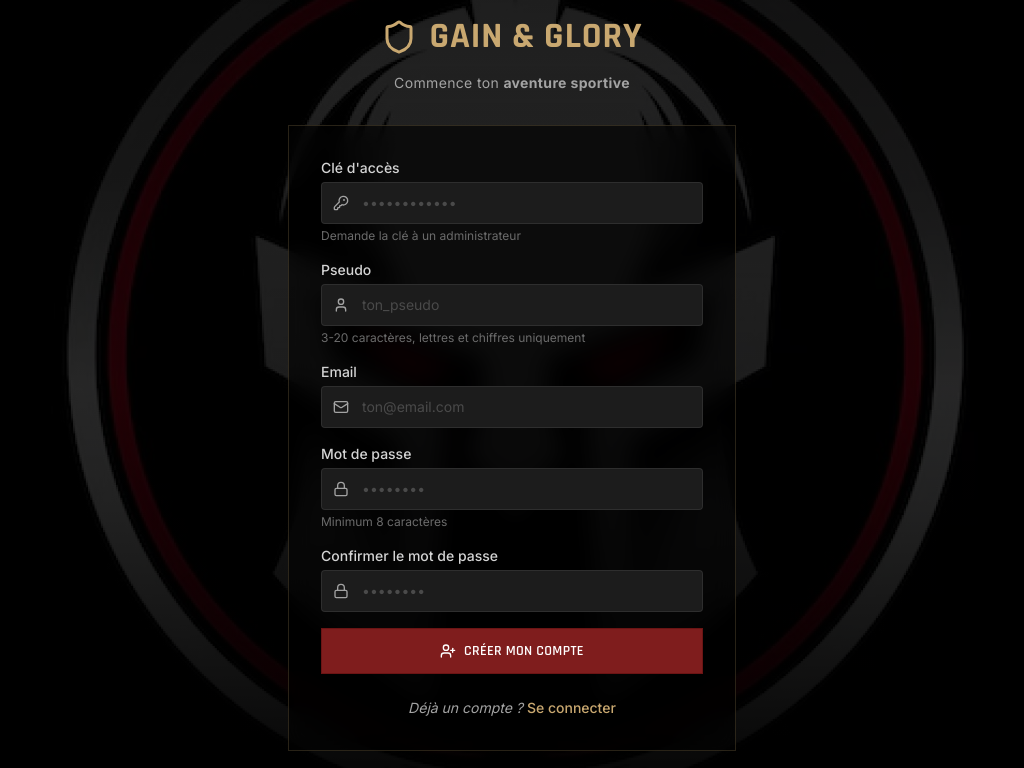
RegisterPage › affiche une erreur si la clé d'accès est incorrecte
Type "MauvaiseCle" into the password field labelled "Clé d'accès". click: [512, 203]
box: [321, 182, 703, 224]
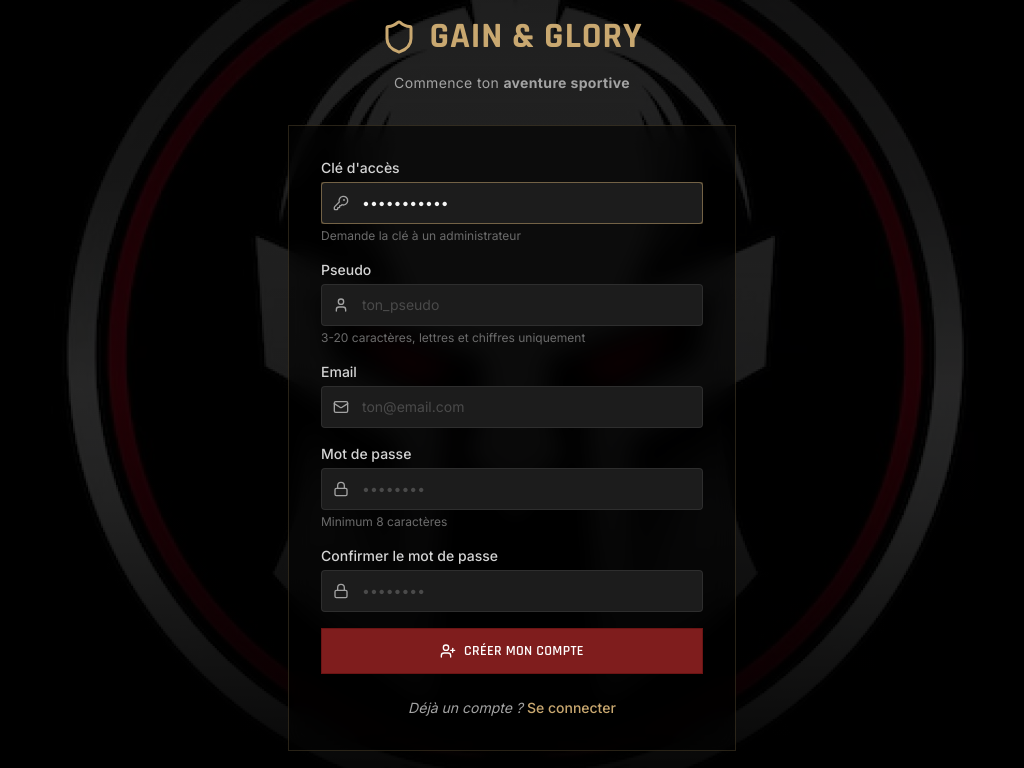
Type "warrior42" into the field labelled "Pseudo". click: [512, 305]
box: [321, 284, 703, 326]
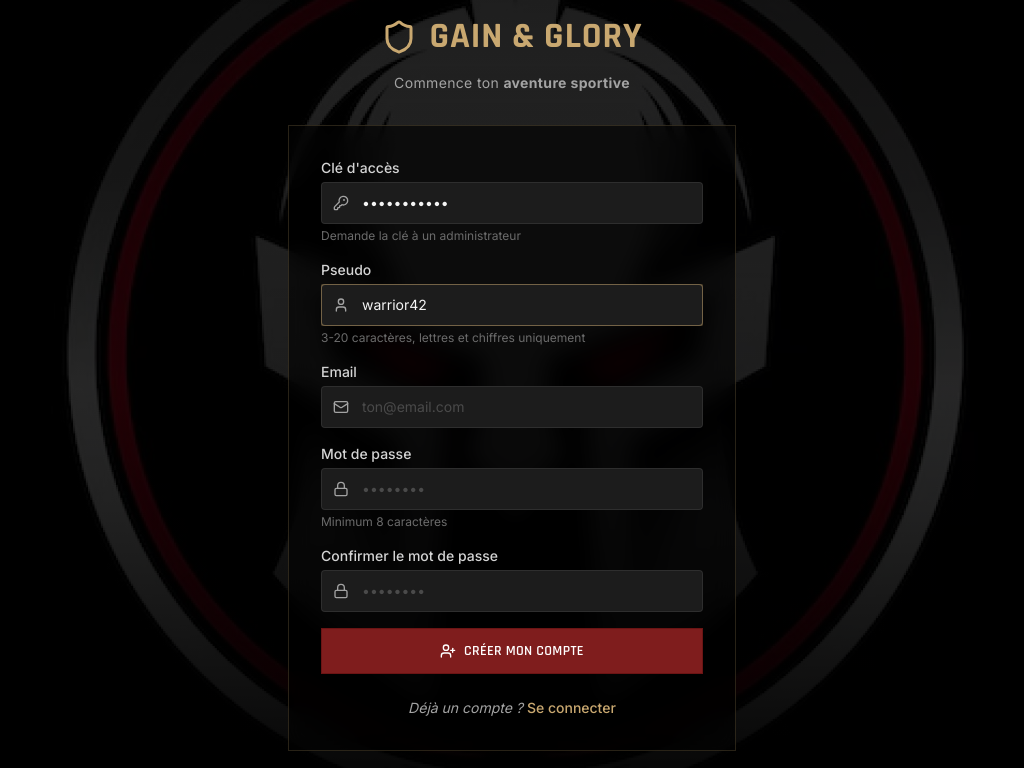
Type "warrior@test.com" into the field labelled "Email". click: [512, 407]
box: [321, 386, 703, 428]
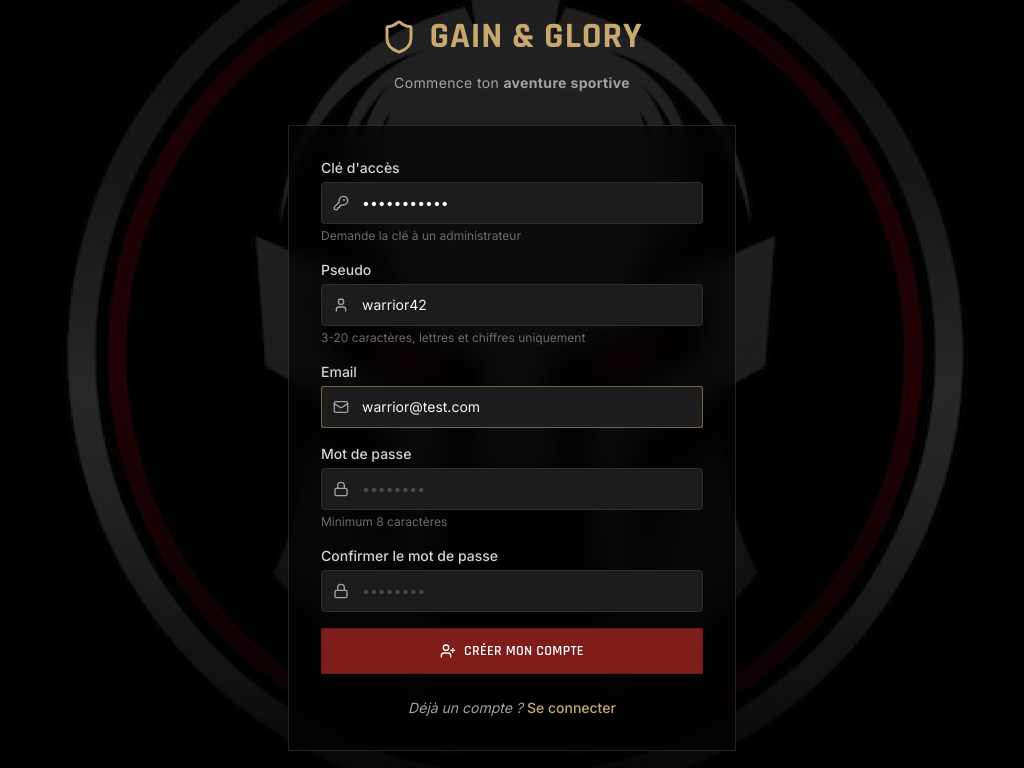
Type "password123" into the password field labelled "Mot de passe". click: [512, 489]
box: [321, 468, 703, 510]
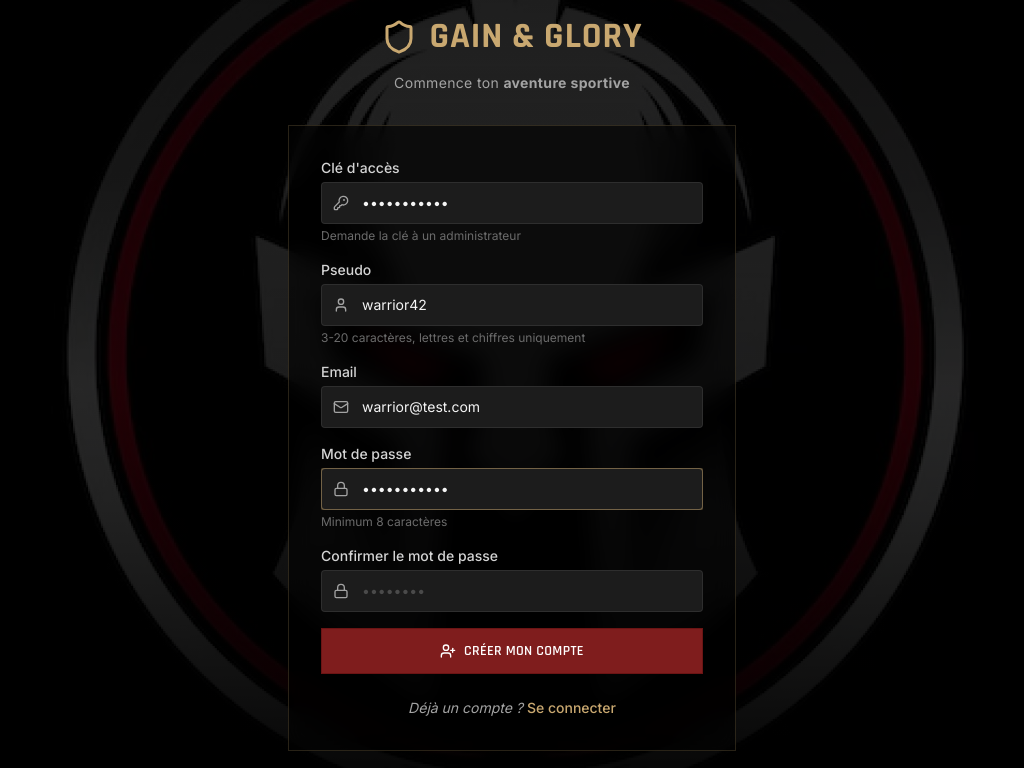
Type "password123" into the password field labelled "Confirmer le mot de passe". click: [512, 591]
box: [321, 570, 703, 612]
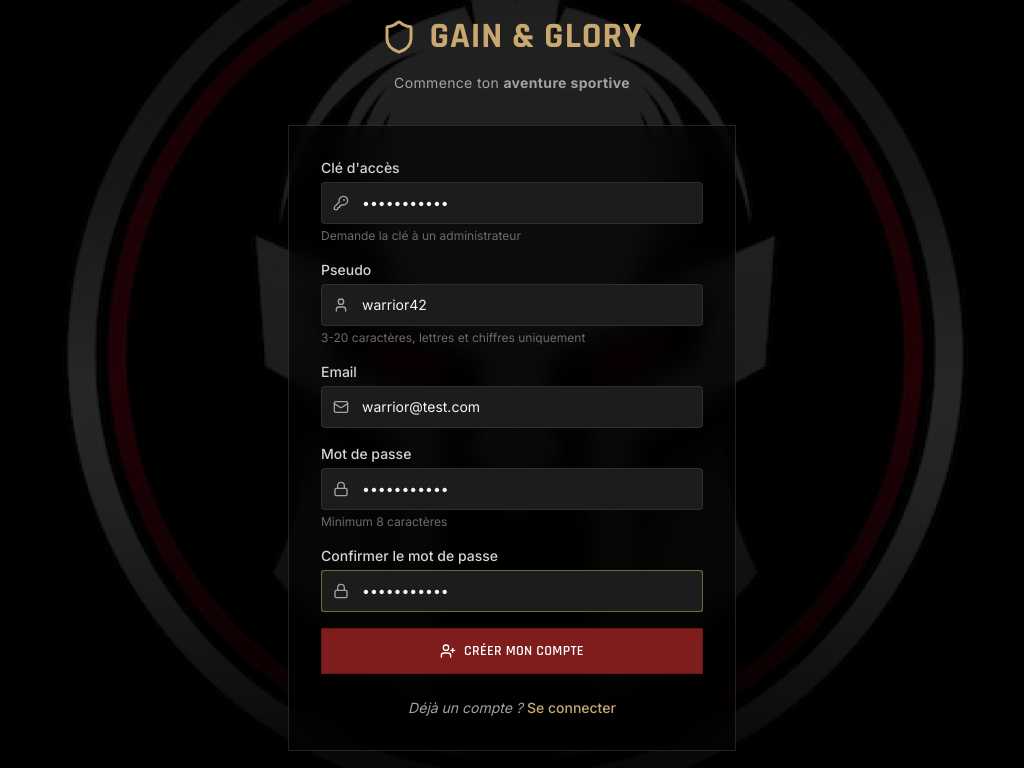
Click the button "CRÉER MON COMPTE". click: [512, 651]
box: [321, 628, 703, 674]
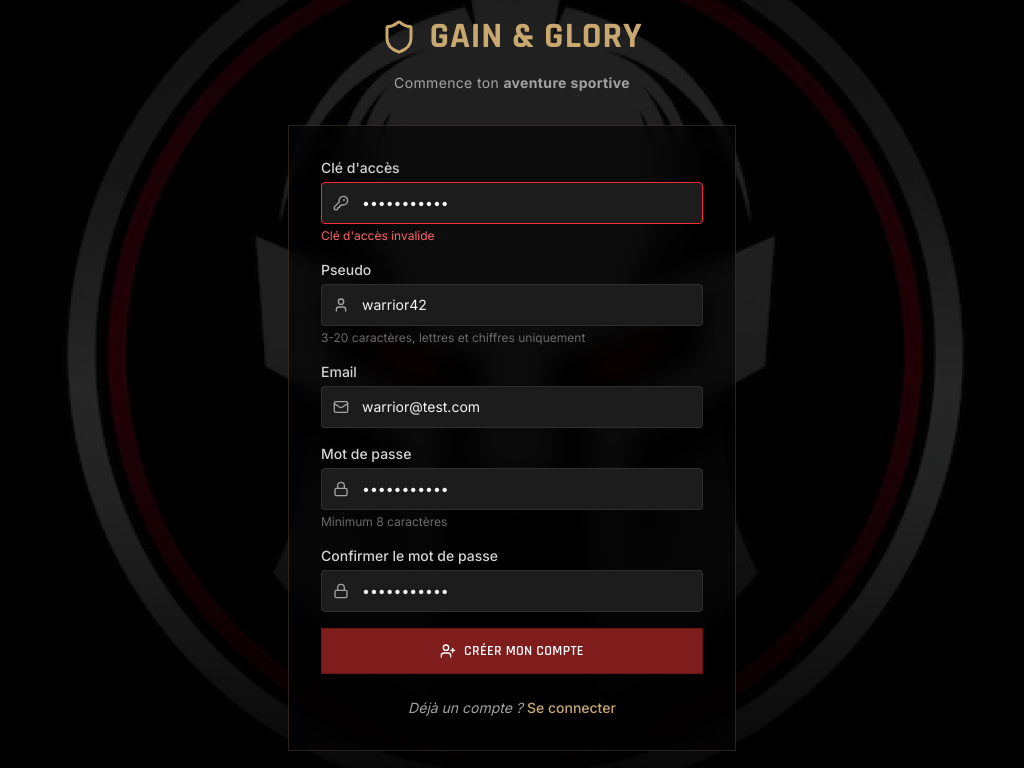
expect the text "Clé d'accès invalide" is shown: met, box [321, 228, 434, 243]
